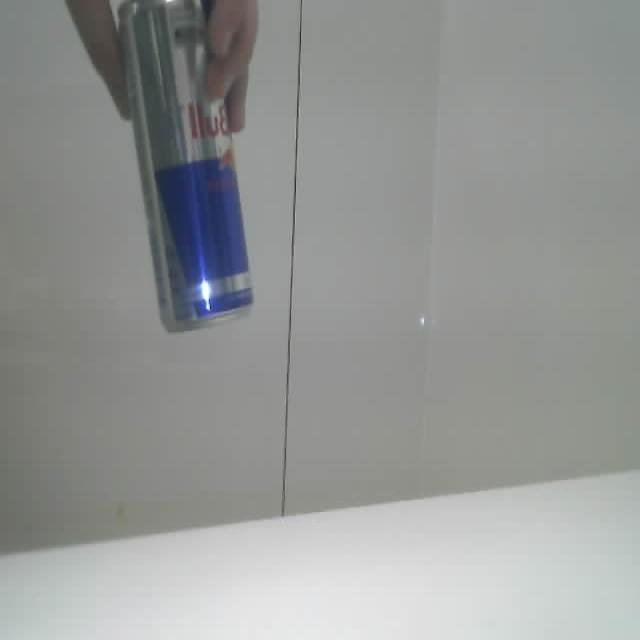redbull can: (119, 0, 252, 331)
